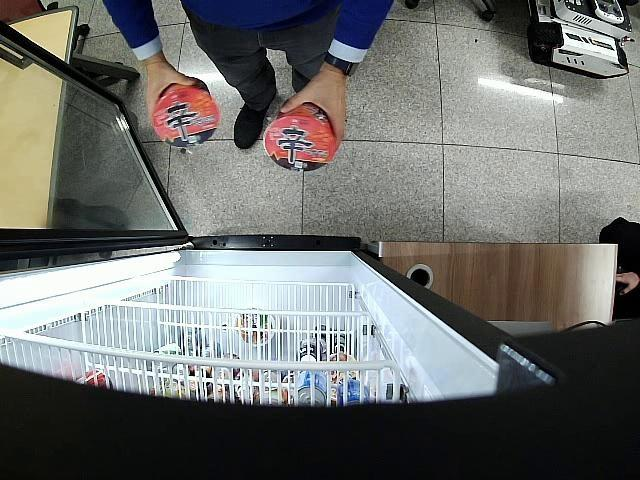01_ShinRamen_L: (265, 102, 336, 172), (153, 75, 220, 149)
